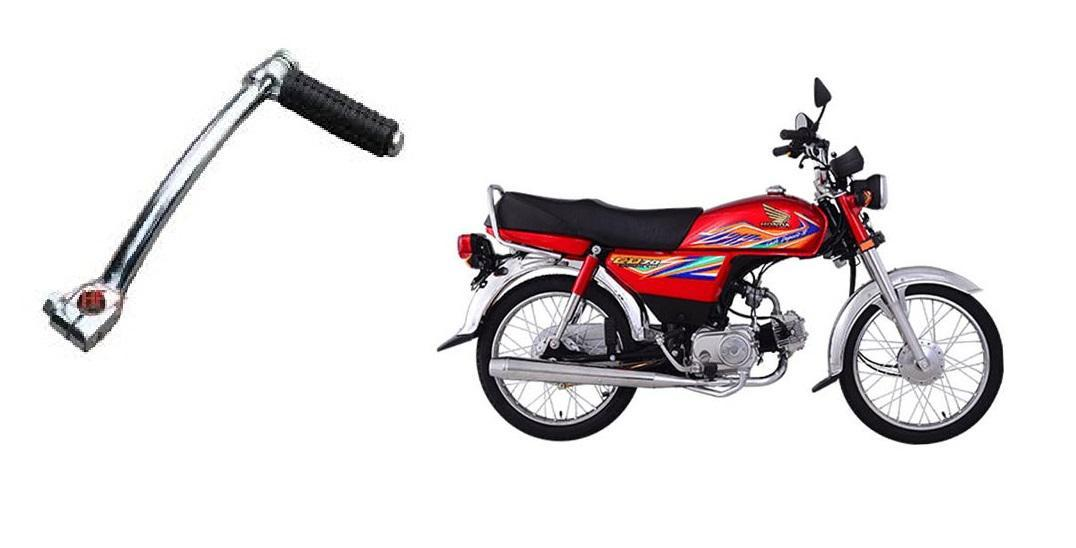bike: (456, 92, 1011, 455)
